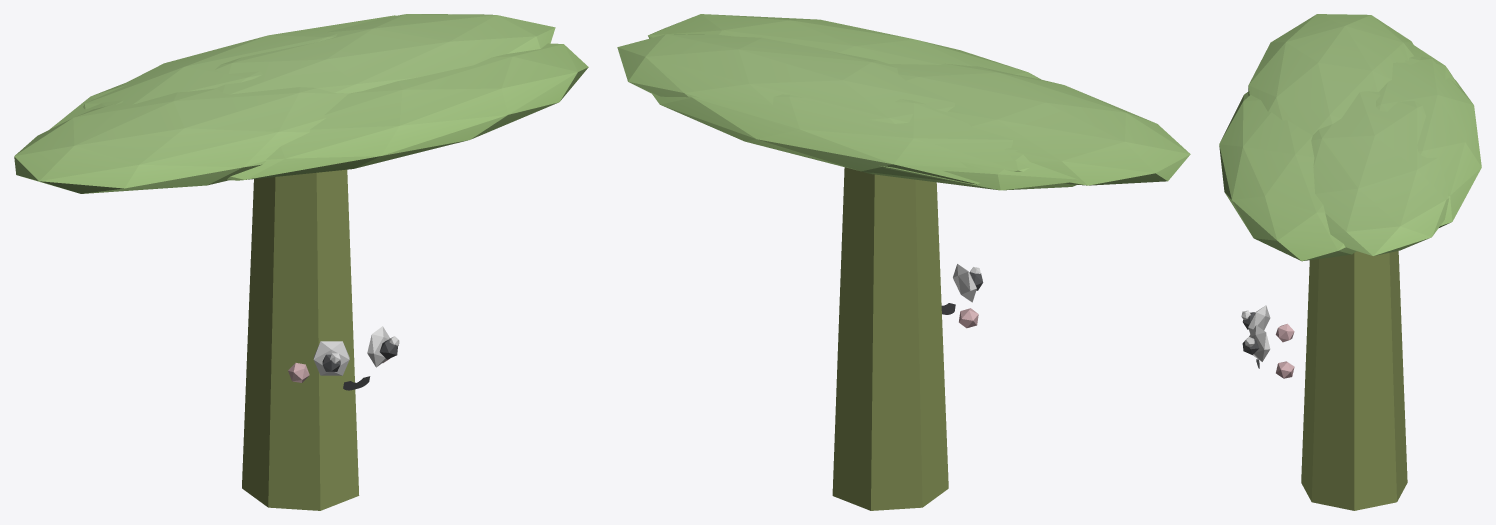
Rendered from curcuma-longa.glb.
3 renders of one model, left to right at view 1: azimuth 30°, elevation 25°; view 2: azimuth 150°, elevation 25°; view 3: azimuth 270°, elevation 25°, orthographic. The views are drawn at different scales.
Visible parts, largest first — view 1: pseudostem, leaf2, leaf1, leaf0, leaf3, pface-eye-r; view 2: pseudostem, leaf2, leaf0, leaf3, leaf1, leaf4; view 3: pseudostem, leaf0, leaf1, leaf2, leaf3, leaf4, pface-eye-l, pface-eye-r.
Part boxes in pixels (left/top/right/bottom): pseudostem: left=242, top=169, right=359, bottom=510; leaf2: left=14, top=87, right=347, bottom=193; leaf1: left=227, top=43, right=588, bottom=180; leaf0: left=215, top=14, right=555, bottom=94; leaf3: left=83, top=15, right=395, bottom=109; pface-eye-r: left=313, top=341, right=349, bottom=375; pseudostem: left=832, top=167, right=948, bottom=510; leaf2: left=889, top=63, right=1190, bottom=185; leaf0: left=617, top=34, right=955, bottom=123; leaf3: left=651, top=93, right=1029, bottom=184; leaf1: left=648, top=14, right=1040, bottom=79; leaf4: left=863, top=148, right=1077, bottom=190; pseudostem: left=1301, top=251, right=1407, bottom=510; leaf0: left=1311, top=91, right=1449, bottom=255; leaf1: left=1219, top=92, right=1356, bottom=261; leaf2: left=1248, top=14, right=1414, bottom=135; leaf3: left=1376, top=56, right=1481, bottom=227; leaf4: left=1405, top=43, right=1459, bottom=87; pface-eye-l: left=1249, top=325, right=1270, bottom=361; pface-eye-r: left=1248, top=305, right=1270, bottom=333.
Bounding box in the file's own units: 0.6235 × 0.4459 × 0.2887.
